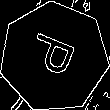P_E: (24, 30, 84, 84)
